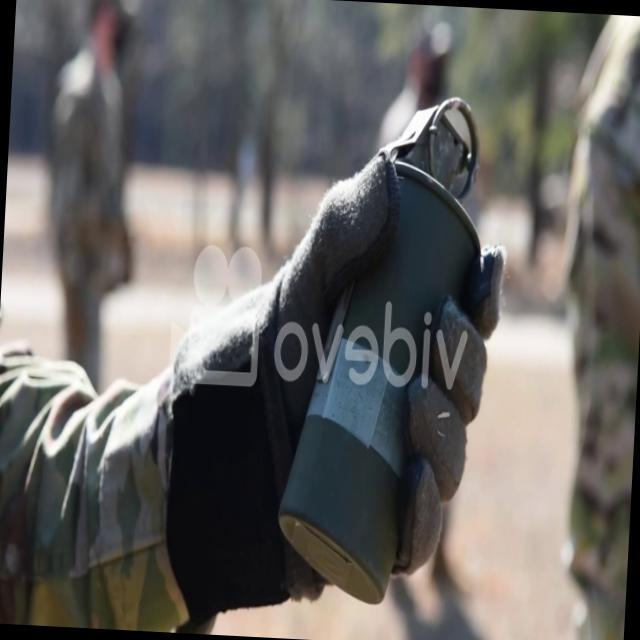grenade: (275, 92, 500, 614)
